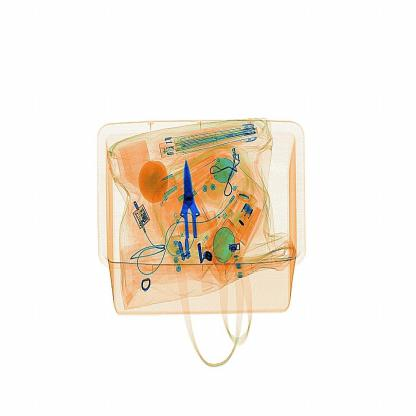gun: (166, 157, 218, 248)
